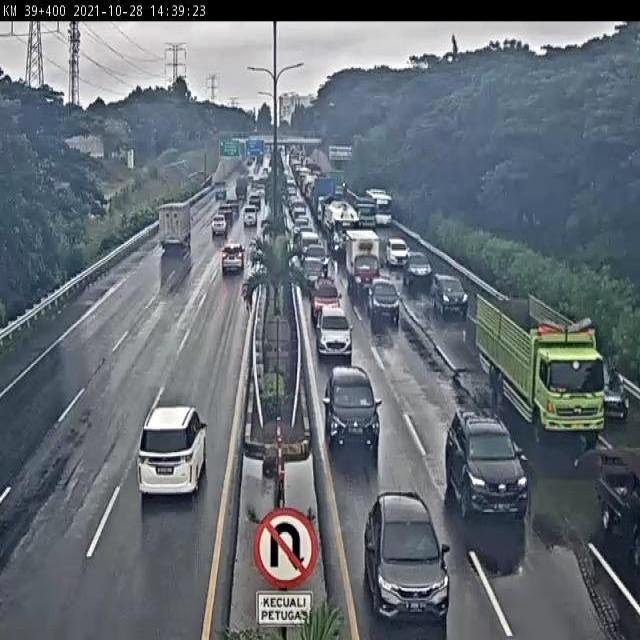car: (362, 492, 449, 619), (444, 408, 527, 516), (136, 409, 205, 496), (322, 368, 379, 448), (317, 305, 351, 352), (433, 270, 468, 314), (366, 275, 398, 316), (309, 274, 339, 314), (406, 253, 434, 284), (221, 243, 247, 273), (302, 244, 329, 271), (302, 257, 324, 288), (210, 212, 227, 237)
mid truck: (475, 292, 601, 435), (158, 204, 192, 256)
small truck: (596, 448, 640, 568), (344, 231, 378, 289)
